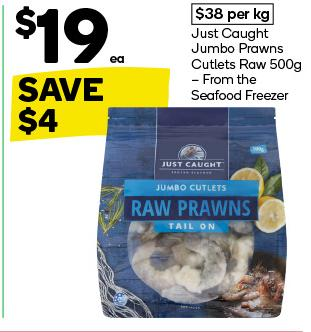description_block: (184, 27, 304, 72)
price_main: (8, 2, 133, 65)
promo_text_block: (11, 71, 159, 140)
unit_price_block: (190, 3, 279, 27)
